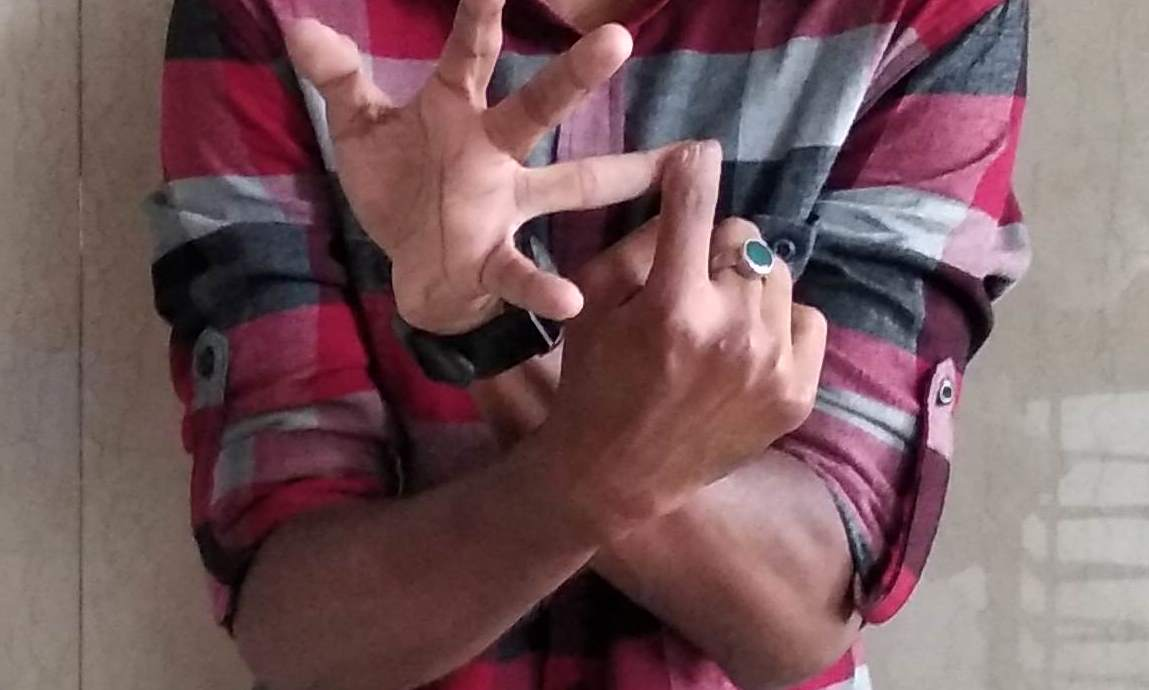e: (448, 38, 816, 375)
